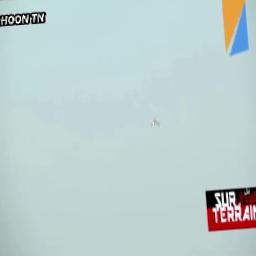Airplane: (148, 118, 162, 129)
